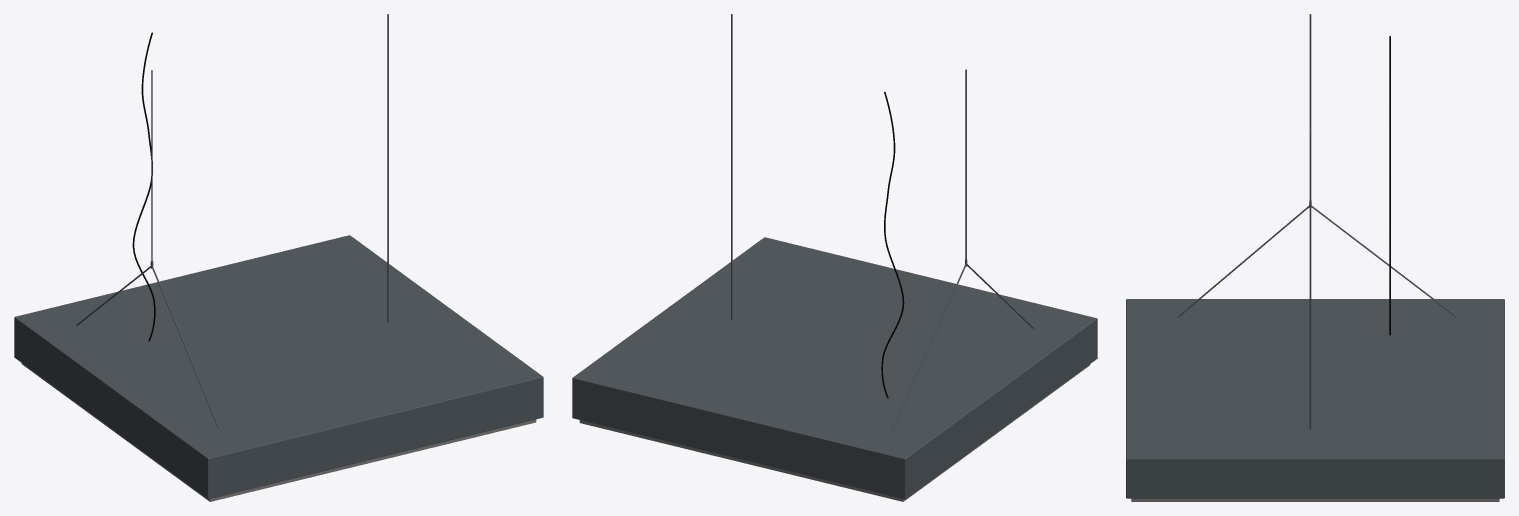
3 views of the same model, side by side, from view 1: azimuth 30°, elevation 25°; view 2: azimuth 150°, elevation 25°; view 3: azimuth 270°, elevation 25° (orthographic). The views are drawn at different scales.
Parts seen in each view (by area): view 1: 淘宝店铺：晨风素材_8, 淘宝店铺：晨风素材_10, 淘宝店铺：晨风素材_14, 淘宝店铺：晨风素材_15, 淘宝店铺：晨风素材_13; view 2: 淘宝店铺：晨风素材_8, 淘宝店铺：晨风素材_10, 淘宝店铺：晨风素材_14, 淘宝店铺：晨风素材_15, 淘宝店铺：晨风素材_13; view 3: 淘宝店铺：晨风素材_8, 淘宝店铺：晨风素材_10, 淘宝店铺：晨风素材_14, 淘宝店铺：晨风素材_13, 淘宝店铺：晨风素材_15.
Boxes of the visible parts, x1=… form: 淘宝店铺：晨风素材_8: x1=14, y1=235, x2=543, y2=499; 淘宝店铺：晨风素材_10: x1=21, y1=363, x2=536, y2=501; 淘宝店铺：晨风素材_14: x1=76, y1=70, x2=220, y2=430; 淘宝店铺：晨风素材_15: x1=132, y1=32, x2=155, y2=341; 淘宝店铺：晨风素材_13: x1=387, y1=14, x2=388, y2=322; 淘宝店铺：晨风素材_8: x1=572, y1=237, x2=1097, y2=499; 淘宝店铺：晨风素材_10: x1=579, y1=364, x2=1090, y2=501; 淘宝店铺：晨风素材_14: x1=891, y1=69, x2=1033, y2=432; 淘宝店铺：晨风素材_15: x1=881, y1=92, x2=904, y2=398; 淘宝店铺：晨风素材_13: x1=731, y1=14, x2=732, y2=320; 淘宝店铺：晨风素材_8: x1=1126, y1=299, x2=1504, y2=498; 淘宝店铺：晨风素材_10: x1=1131, y1=498, x2=1499, y2=501; 淘宝店铺：晨风素材_14: x1=1177, y1=14, x2=1457, y2=317; 淘宝店铺：晨风素材_13: x1=1309, y1=128, x2=1311, y2=429; 淘宝店铺：晨风素材_15: x1=1389, y1=36, x2=1390, y2=335.
Bounding box in the file's own units: 60 × 61.35 × 60.
5 materials, 2 textured.
